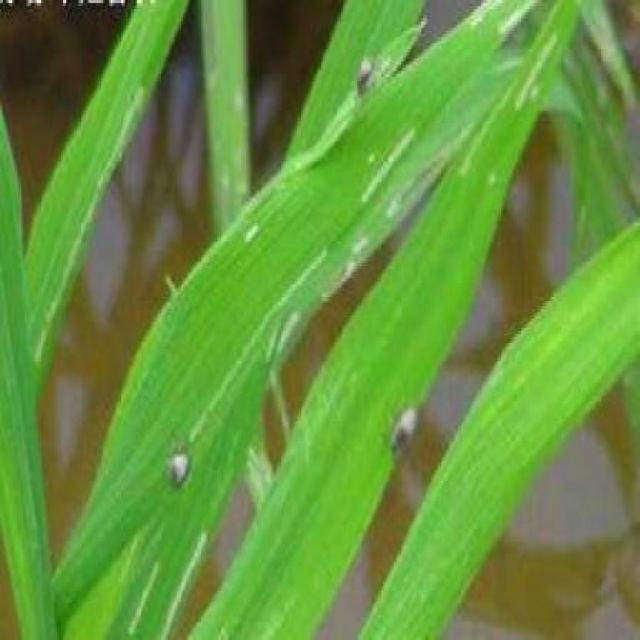rice-bug: (388, 402, 418, 452), (168, 437, 190, 489), (354, 46, 377, 94)
